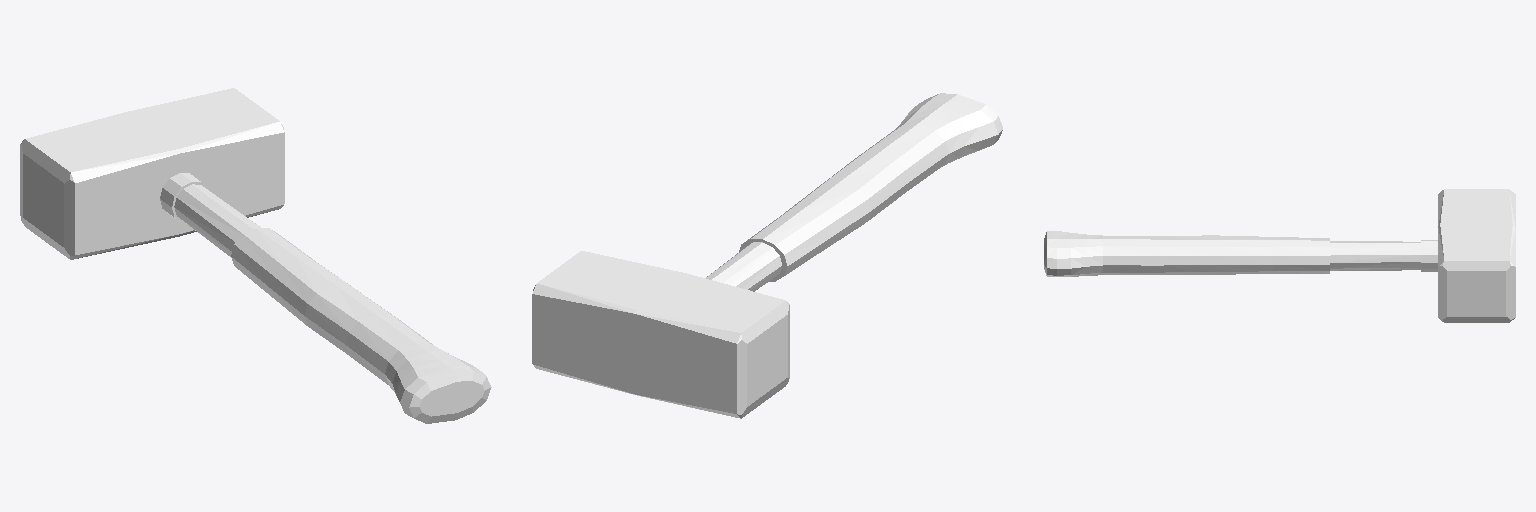
robot.urdf — hammer:
<?xml version="1.0" ?>
    <robot name="hammer">
    <link name="base">
        <inertial>
            <origin rpy="0 0 0" xyz="0 0 0"/>
            <mass value="1.0"/>
            <inertia ixx="1" ixy="0" ixz="0" iyy="1" iyz="0" izz="1"/>
        </inertial>
    <visual>
        <origin rpy="0 0 0" xyz="0 0 0"/>
        <geometry>
        <mesh filename="./meshes/hammer.obj" scale="1 1 1"/>
        </geometry>
        <material name="white">
        <color rgba="1 1 1 1"/>
        </material>
    </visual>
    <collision>
        <origin rpy="0 0 0" xyz="0 0 0"/>
        <geometry>
        <mesh filename="./meshes/hammer_vhacd.obj" scale="1 1 1"/>
        </geometry>
    </collision>
    </link>
    <link name="grasp">
        <inertial>
        <origin rpy="0 0 0" xyz="0 0 0"/>
        <mass value="0.0"/>
        <inertia ixx="1" ixy="0" ixz="0" iyy="1" iyz="0" izz="1"/>
        </inertial>
    </link>
    <joint name="base__grasp" type="fixed">
        <origin xyz="0.0 0.0 0.0" rpy="0.0 0.0 0.0"/>
        <parent link="base"/>
        <child link="grasp"/>
    </joint>
    </robot>

--- Facts derived from the render (not from the file) ---
Views: 3 orthographic renders of the robot side by side, from view 1: azimuth 30°, elevation 25°; view 2: azimuth 150°, elevation 25°; view 3: azimuth 270°, elevation 25°.
Robot: hammer — 2 links, 1 joints (1 fixed); root link base; default pose: all joints at 0.
Links seen in each view (by area): view 1: base; view 2: base; view 3: base.
Link boxes in pixels (x1=…): base: x1=20, y1=88, x2=491, y2=423; base: x1=532, y1=93, x2=1002, y2=418; base: x1=1044, y1=189, x2=1515, y2=322.
Bounding box of the posed robot: 0.1039 × 0.2746 × 0.04 m (x, y, z).
1 mesh visuals loaded from 1 distinct referenced files (1 OBJ).